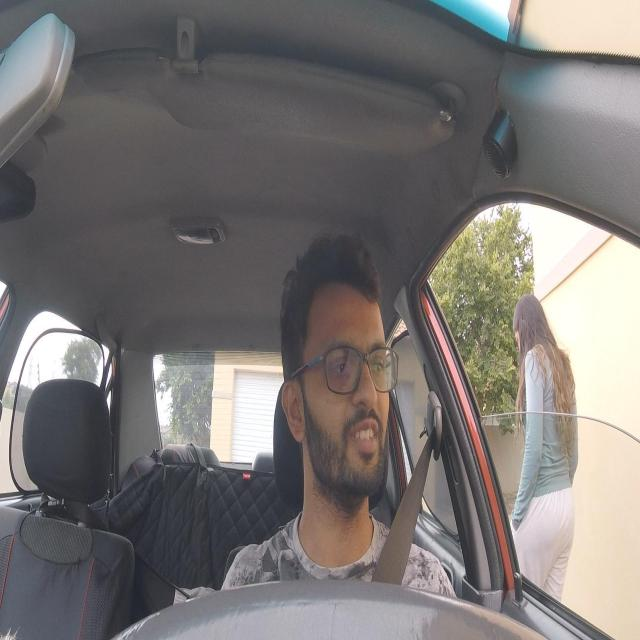open: (326, 338, 355, 390), (367, 335, 388, 401)
